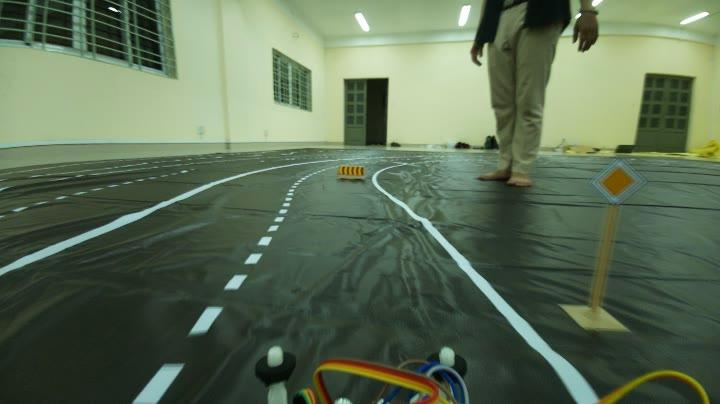priority: (593, 151, 654, 219)
roadblock: (330, 162, 370, 185)
